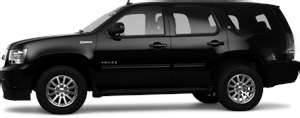car: (1, 1, 300, 118)
